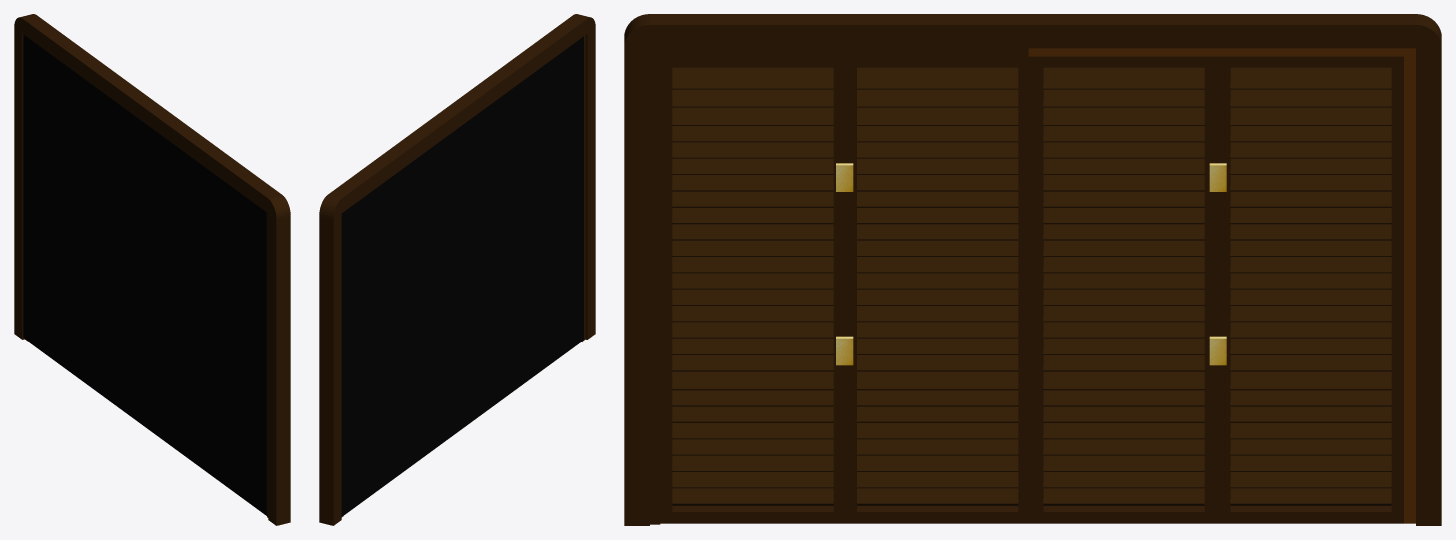
File: ropa.obj
3 renders of one model, left to right at view 1: azimuth 30°, elevation 25°; view 2: azimuth 150°, elevation 25°; view 3: azimuth 270°, elevation 25°, orthographic. The views are drawn at different scales.
Visible parts, largest first — view 1: Cube.009, Cube.007, Cube.001, Cube.008; view 2: Cube.009, Cube.001, Cube.007, Cube.008; view 3: Cube.005, Cube.006, Cube.004, Cube.003, Cube.001, Cube.007, Cube.002, Cube.008, Cube.009.
Part boxes in pixels (x1,y1,x2,y2): Cube.009: (23,34,267,515); Cube.007: (144,104,290,525); Cube.001: (14,14,158,339); Cube.008: (267,213,268,517); Cube.009: (341,36,583,516); Cube.001: (319,104,465,525); Cube.007: (451,14,595,339); Cube.008: (581,35,585,341); Cube.005: (1031,56,1217,523); Cube.006: (1217,56,1403,523); Cube.004: (844,56,1031,523); Cube.003: (660,56,846,523); Cube.001: (1029,14,1441,525); Cube.007: (624,14,1036,525); Cube.002: (1028,48,1415,523); Cube.008: (650,48,1028,524); Cube.009: (672,504,1391,505).
Size of the model in its own units: 1 by 21.44 by 31.7.
